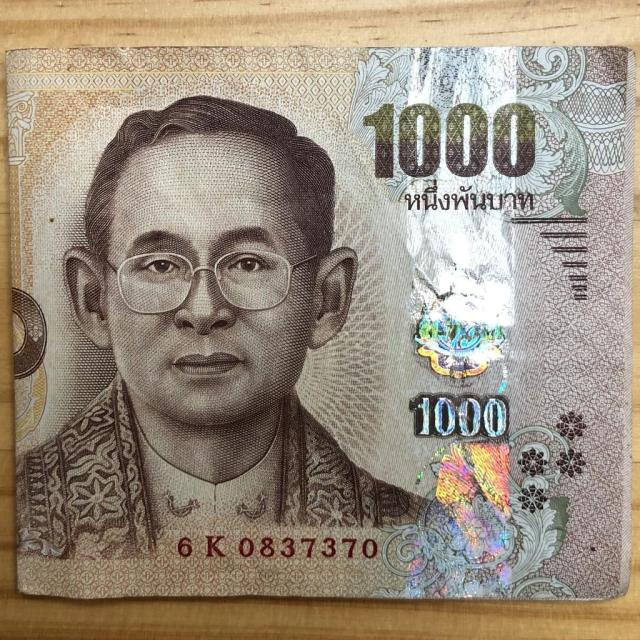THAI1000: (6, 45, 635, 600)
